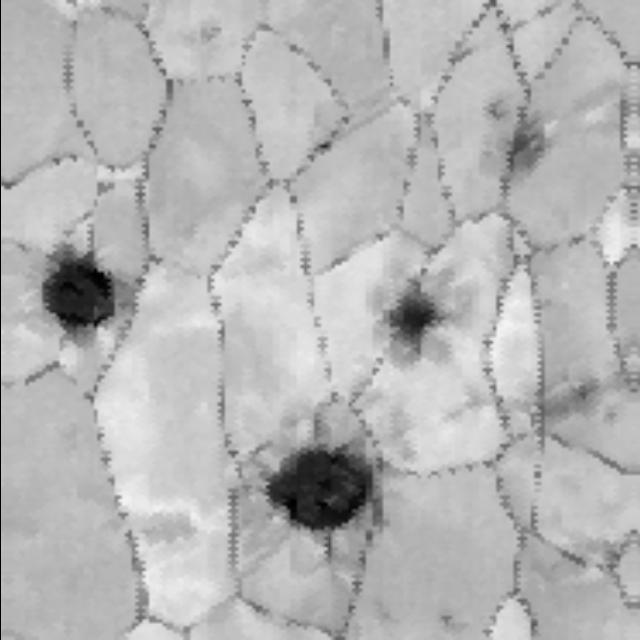good_void: (252, 437, 378, 534), (40, 233, 126, 336), (377, 279, 441, 347), (487, 121, 551, 187), (533, 381, 618, 427), (436, 605, 474, 637), (488, 100, 510, 122)
